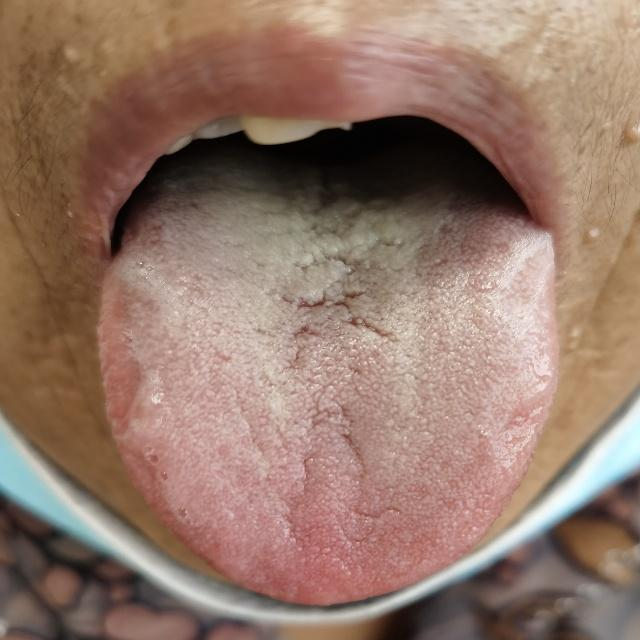baitaishe: (97, 204, 559, 608)
pangdashe: (96, 204, 558, 608)
